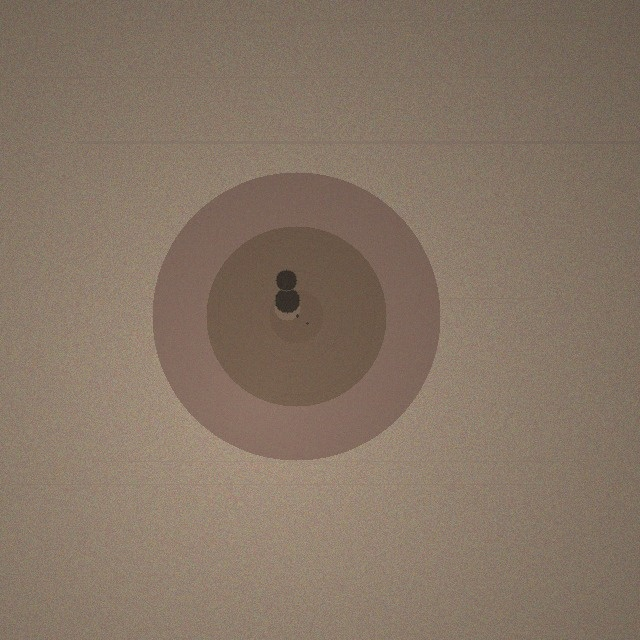shrinkage: (152, 172, 440, 460)
